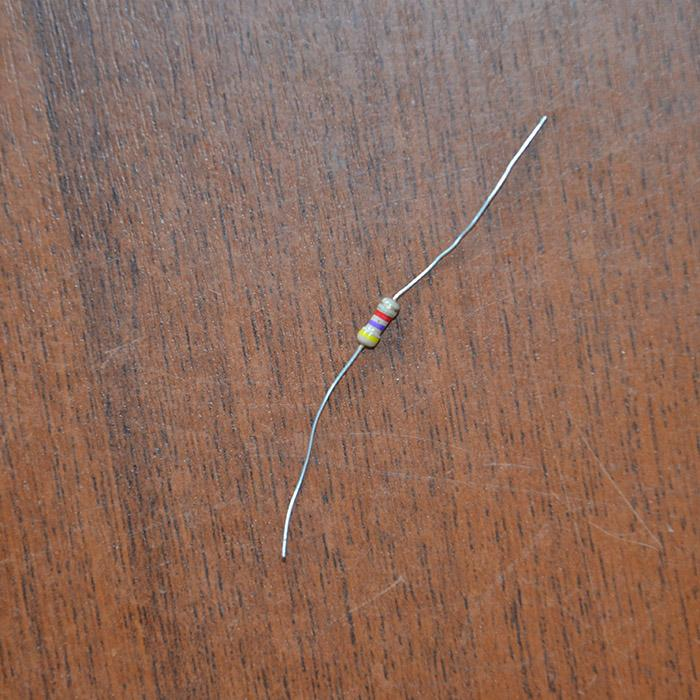resistor: (356, 296, 399, 349)
